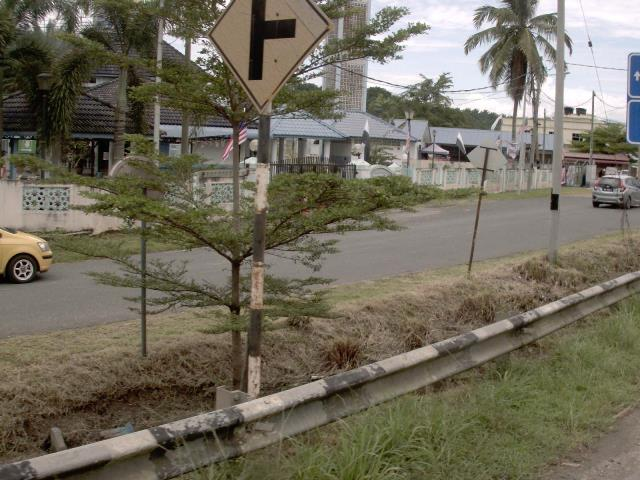traffic_sign: (195, 0, 338, 118)
